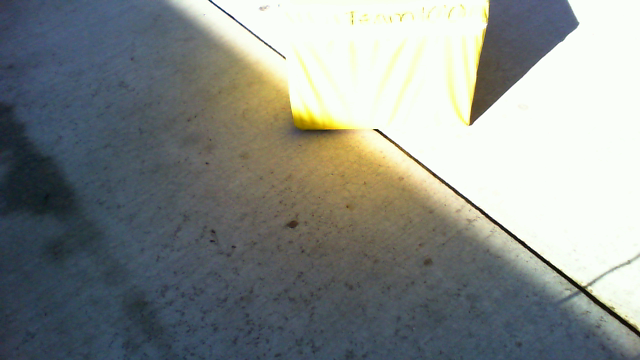cube: (293, 1, 492, 131)
